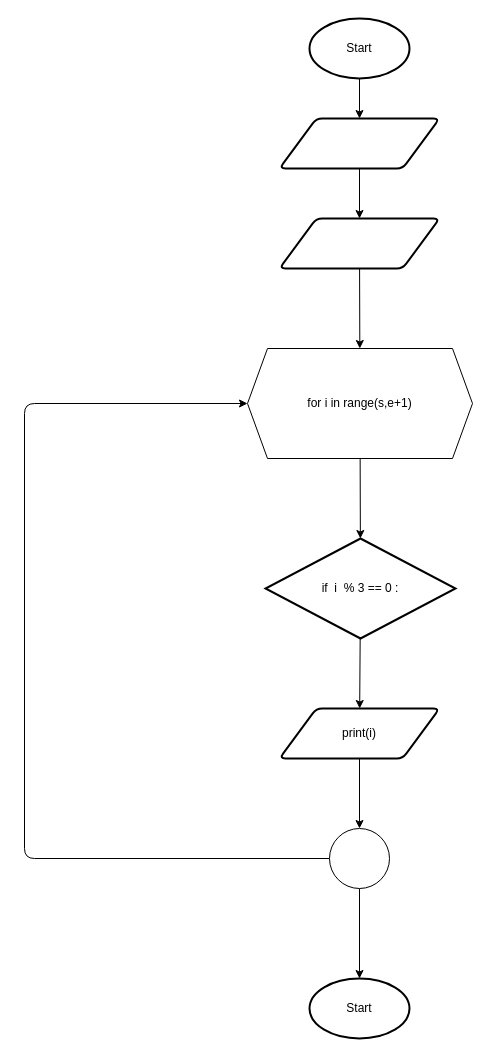
Some shapes in this 490 by 1056 pixel diagram are drawn without their labels. Each missing label, with the centre of its shape:
"Enter numberend" goes at pixel 359 243.
"Enter numberstart" goes at pixel 359 143.
